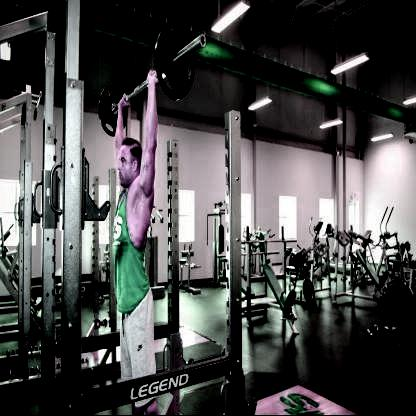Barbell: (196, 28, 209, 52)
